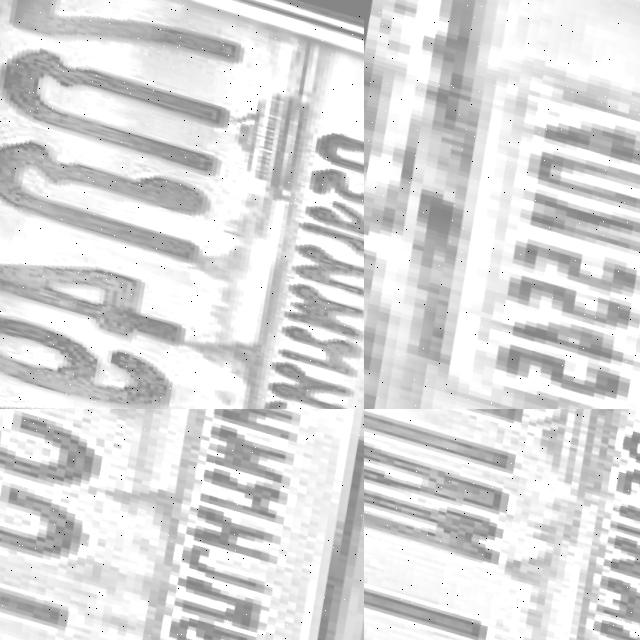license-plate: (0, 0, 364, 409), (377, 27, 640, 409), (0, 409, 364, 640), (364, 409, 640, 640)
